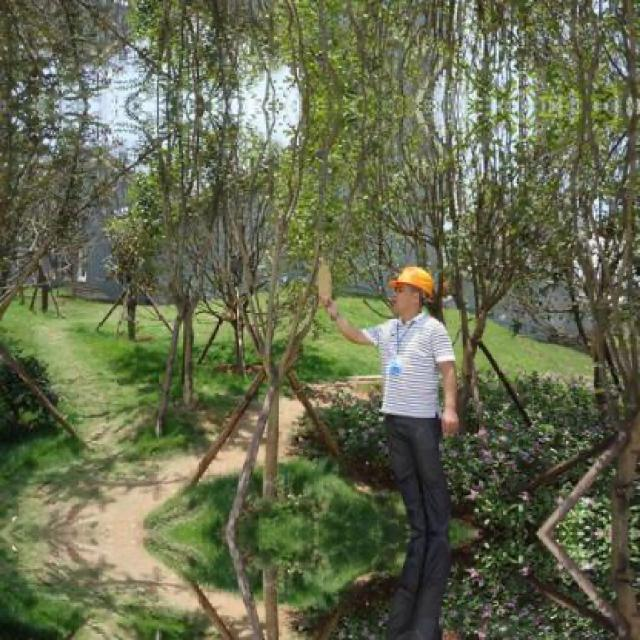helmet: (386, 262, 437, 319)
